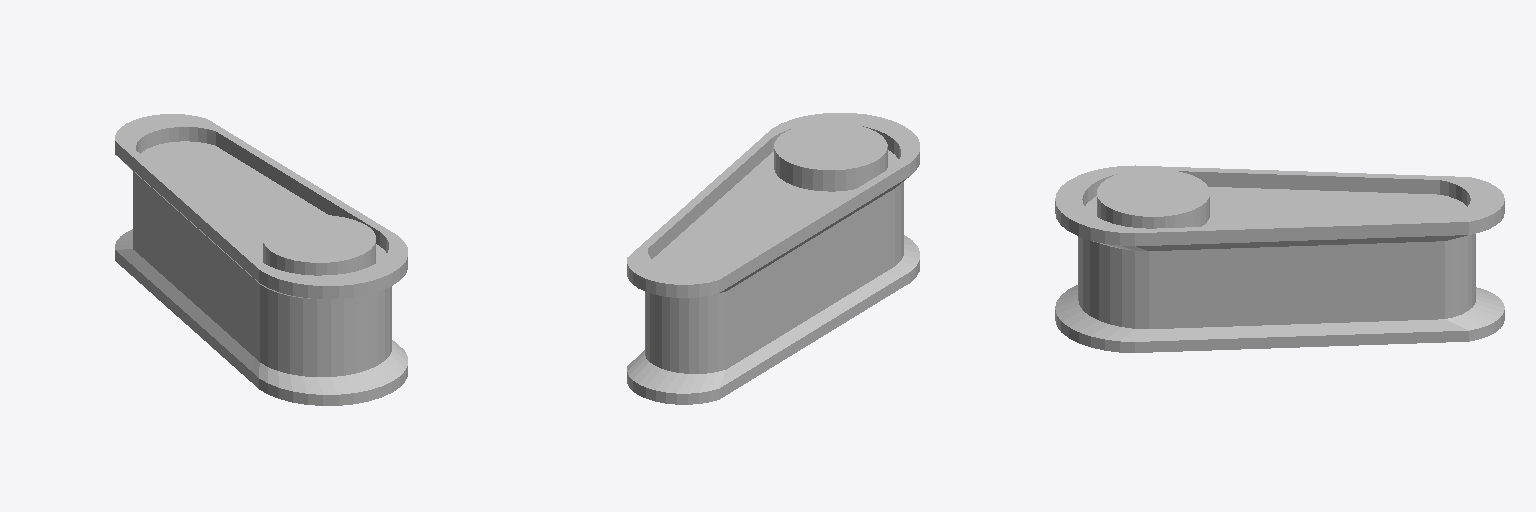
Rendered from FlipperH.obj.
The picture shows the model from 3 angles: view 1: azimuth 30°, elevation 25°; view 2: azimuth 150°, elevation 25°; view 3: azimuth 270°, elevation 25°; orthographic projection.
Visible parts, largest first — view 1: Flipper; view 2: Flipper; view 3: Flipper.
Boxes of the visible parts, box(x1,y1,x2,y2) form: Flipper: box(115, 114, 407, 405); Flipper: box(627, 113, 919, 404); Flipper: box(1055, 165, 1504, 352).
Size of the model in its own units: 4.4 by 3.83 by 12.32.